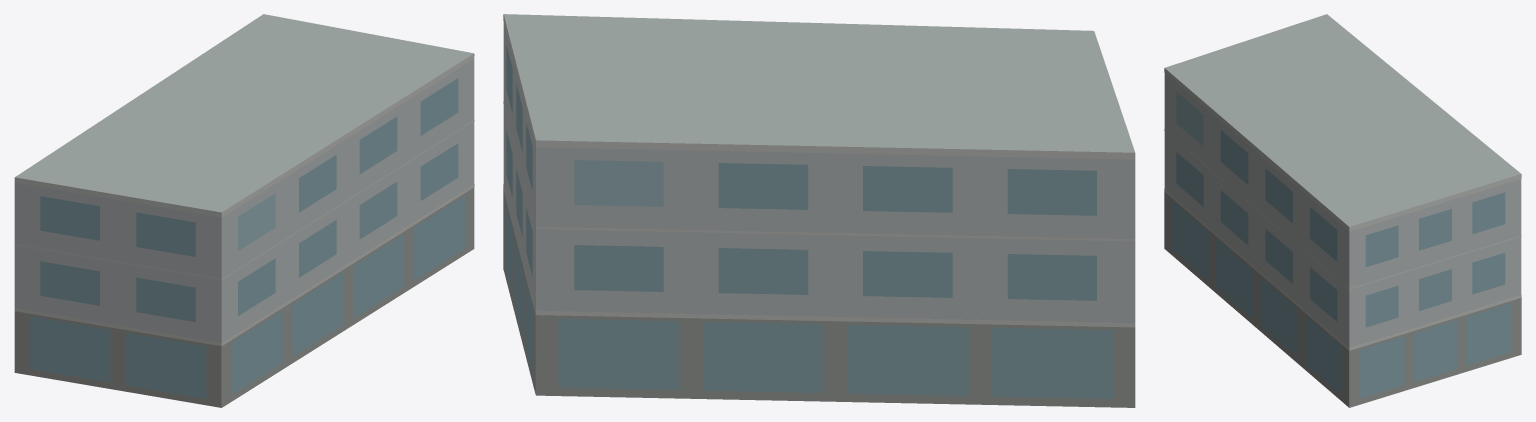
Rendered from survey-upis-32517345.glb.
3 renders of one model, left to right at view 1: azimuth 30°, elevation 25°; view 2: azimuth 150°, elevation 25°; view 3: azimuth 270°, elevation 25°, orthographic. The views are drawn at different scales.
Parts seen in each view (by area): view 1: survey-upis-32517345.tmp; view 2: survey-upis-32517345.tmp; view 3: survey-upis-32517345.tmp.
Boxes of the visible parts, <box> form: survey-upis-32517345.tmp: <box>14,14,474,407</box>; survey-upis-32517345.tmp: <box>503,14,1135,407</box>; survey-upis-32517345.tmp: <box>1164,14,1521,407</box>.
Size of the model in its own units: 23.14 by 9.15 by 16.39.
